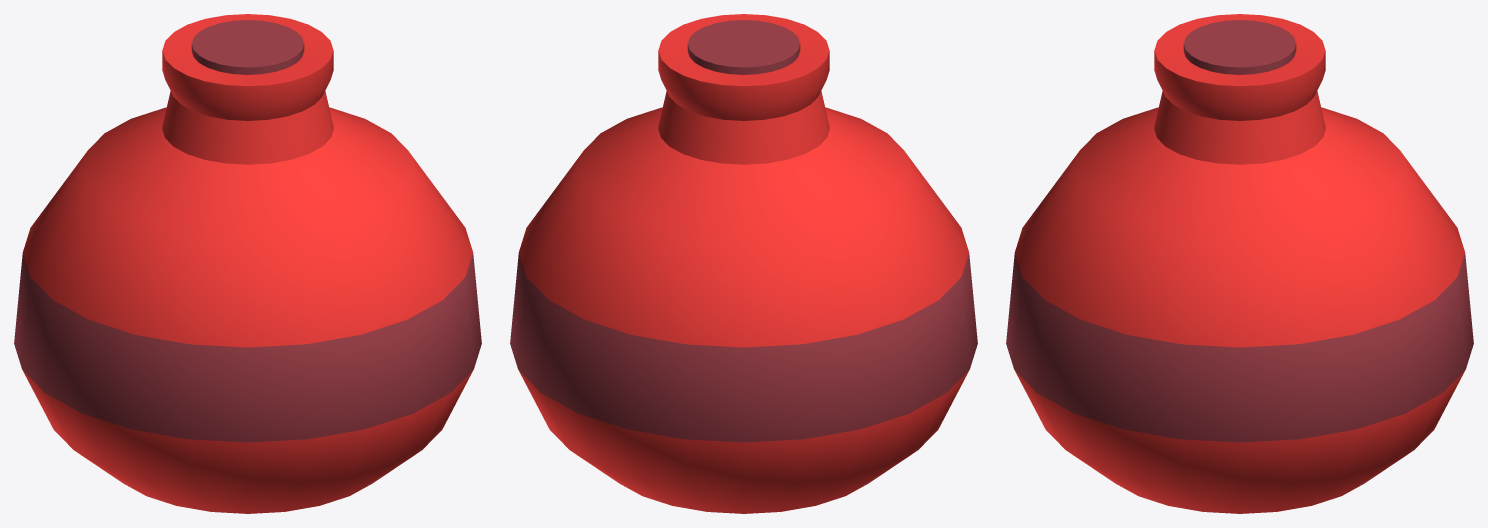
Rendered from ExplosivePot.glb.
3 renders of one model, left to right at view 1: azimuth 30°, elevation 25°; view 2: azimuth 150°, elevation 25°; view 3: azimuth 270°, elevation 25°, orthographic.
Parts seen in each view (by area): view 1: pot, opa; view 2: pot, opa; view 3: pot, opa.
Boxes of the visible parts, box(x1,y1,x2,y2) form: pot: box(14, 14, 481, 513); opa: box(191, 20, 304, 74); pot: box(510, 14, 977, 513); opa: box(687, 20, 800, 74); pot: box(1006, 14, 1473, 513); opa: box(1183, 20, 1296, 74).
Bounding box in the file's own units: 0.8962 × 0.8655 × 0.8962.
Materials: 1 (1 with a texture image).
